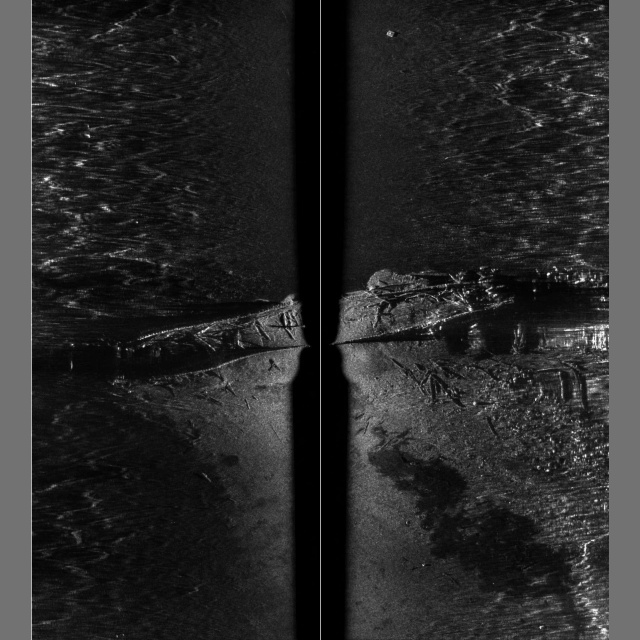Shipwreck: (110, 272, 564, 483)
